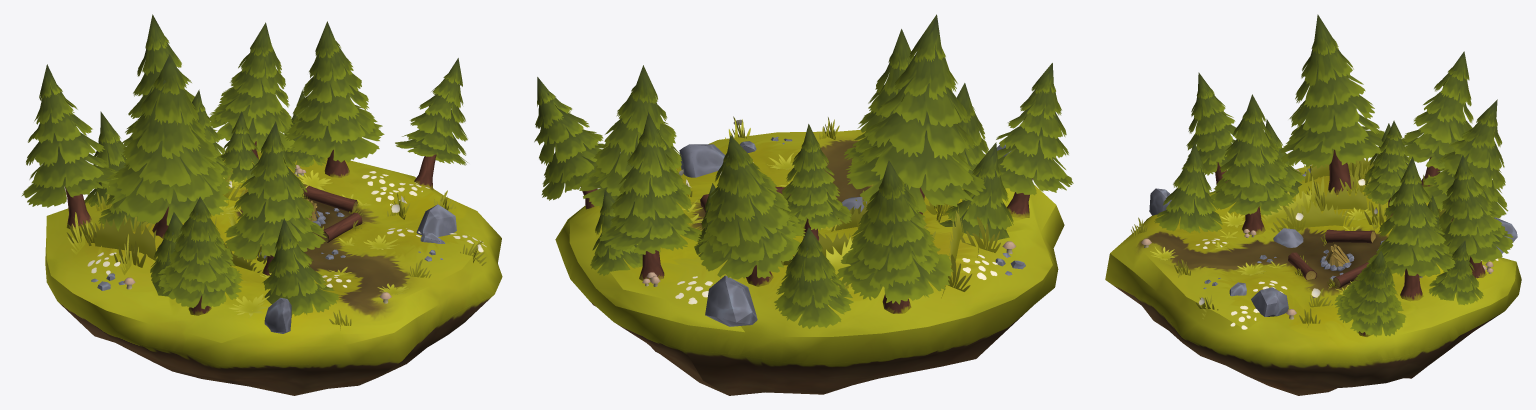
File: forest.glb
3 renders of one model, left to right at view 1: azimuth 30°, elevation 25°; view 2: azimuth 150°, elevation 25°; view 3: azimuth 270°, elevation 25°, orthographic. The views are drawn at different scales.
Visible parts, largest first — view 1: Forest; view 2: Forest; view 3: Forest.
Part boxes in pixels (box(x1,y1,x2,y2)): Forest: box(21, 14, 502, 395); Forest: box(534, 14, 1073, 395); Forest: box(1105, 14, 1521, 395).
Bounding box in the file's own units: 15.19 × 11.44 × 14.62.
4 materials, 4 textured.
